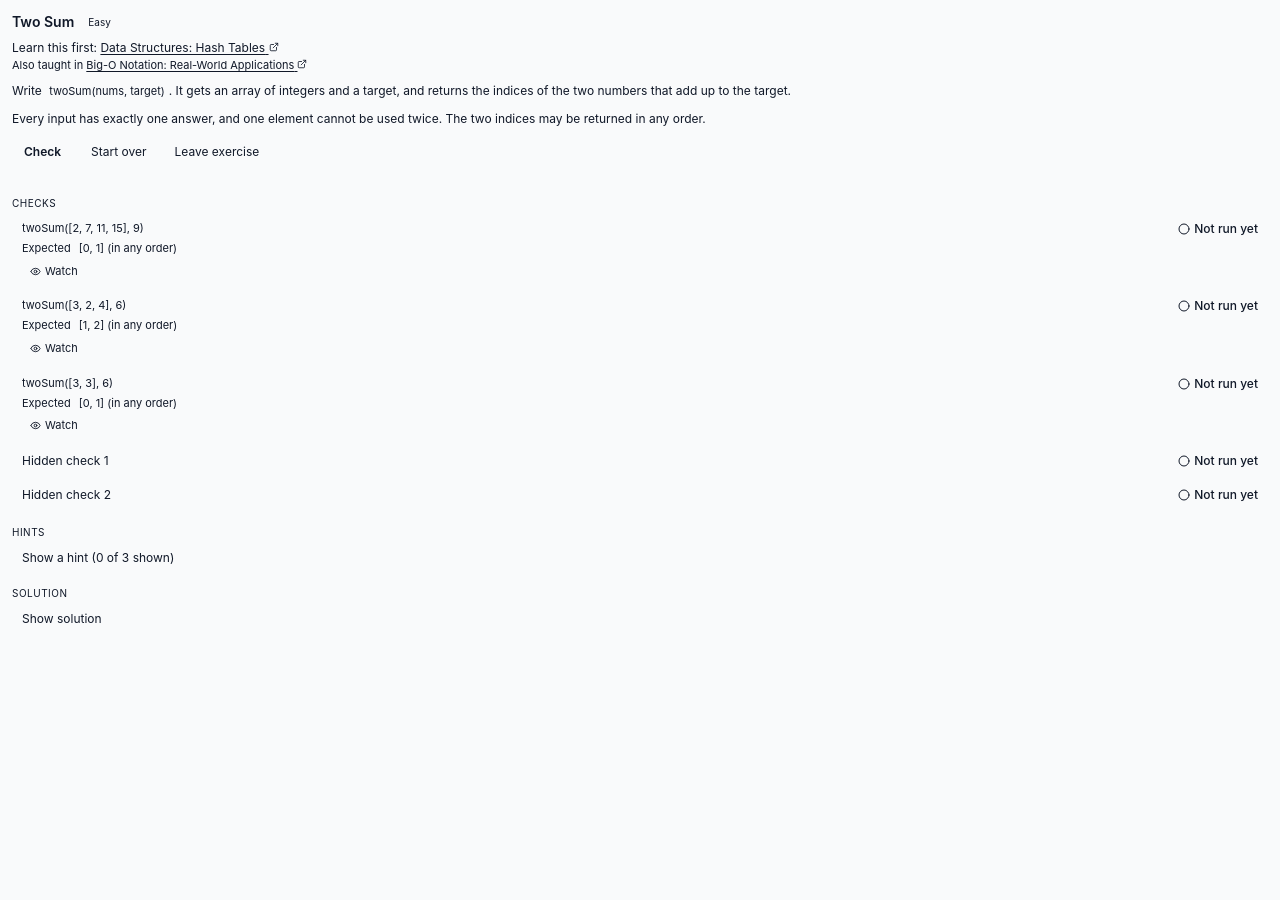
Test: TaskPanel › the solution › stays hidden on Not yet and on Escape, and the focus returns to the button
Click the button "Show solution": (62, 619) x1=12 y1=607 x2=112 y2=631
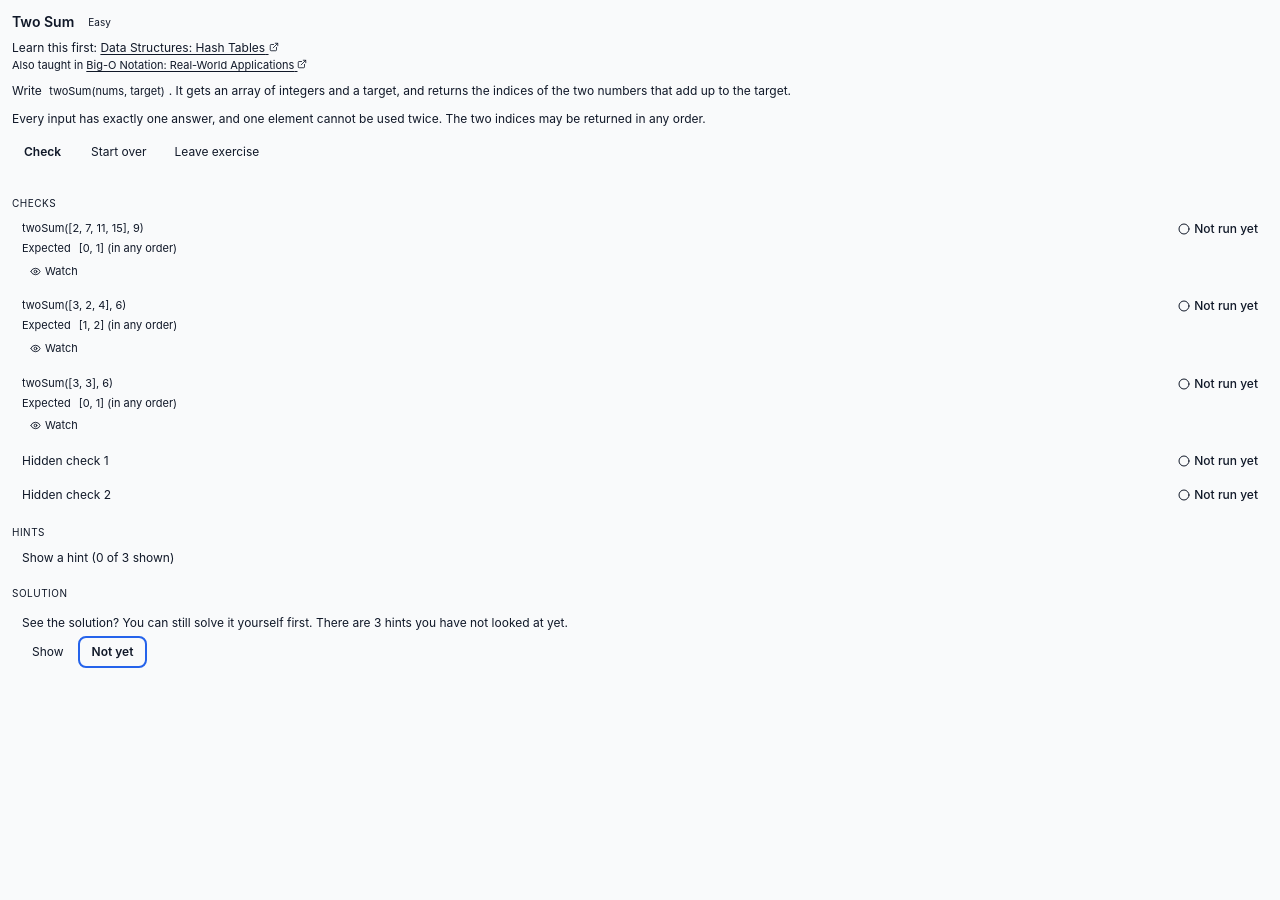
Click the button "Not yet": (113, 652) x1=82 y1=640 x2=144 y2=664
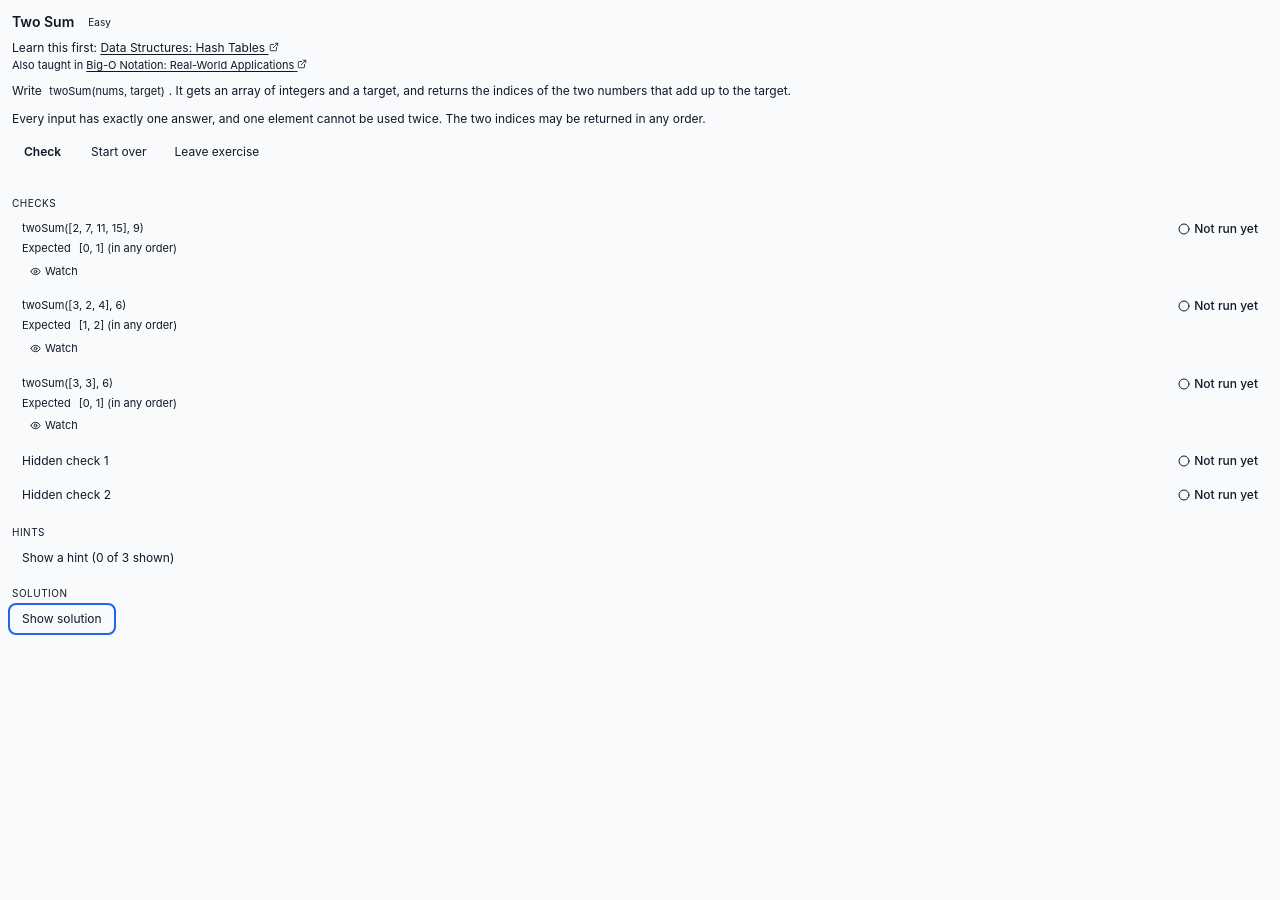
Click the button "Show solution": (62, 619) x1=12 y1=607 x2=112 y2=631
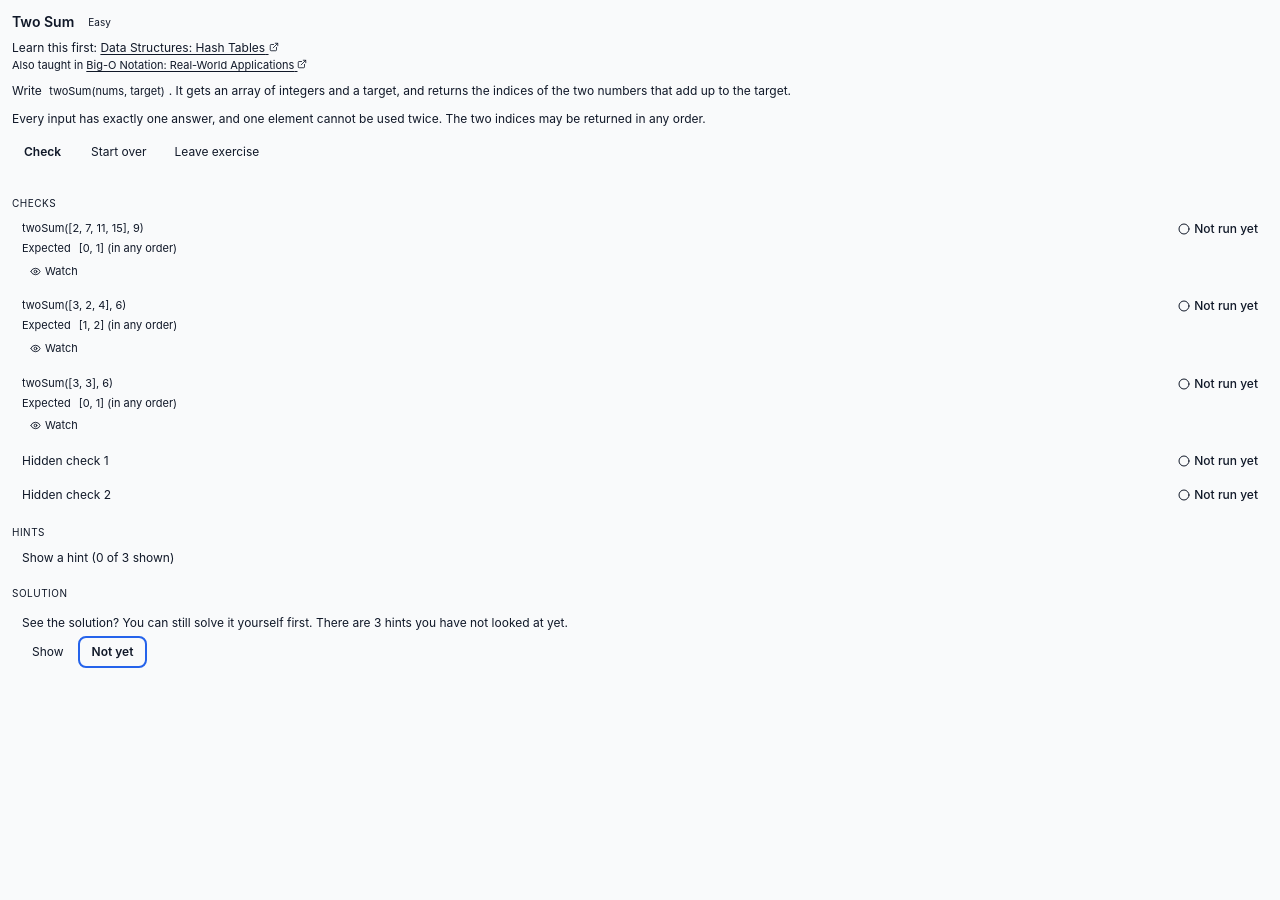
Press Escape in the button "Not yet", box x1=82 y1=640 x2=144 y2=664
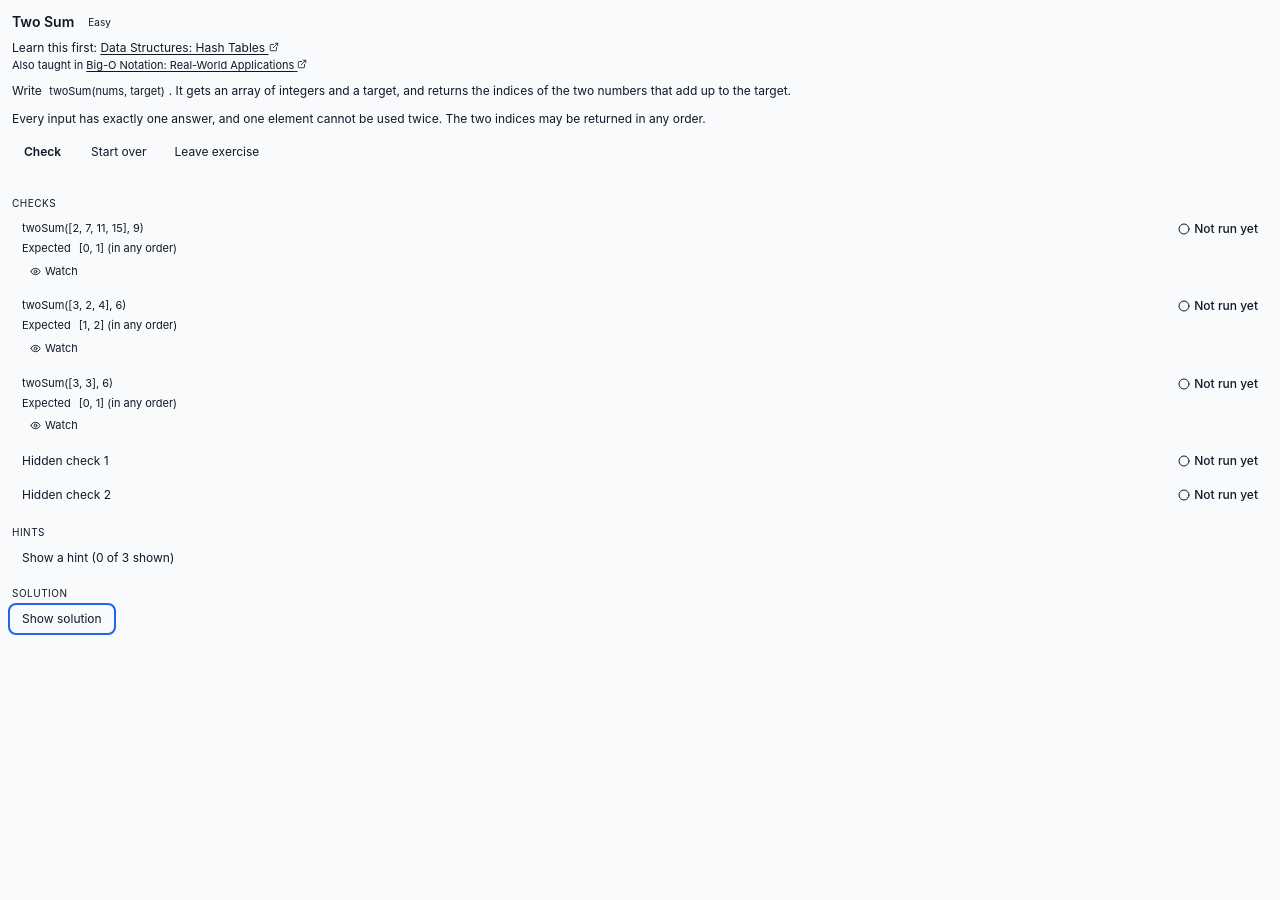
Expected: the text "See the solution?" is gone
